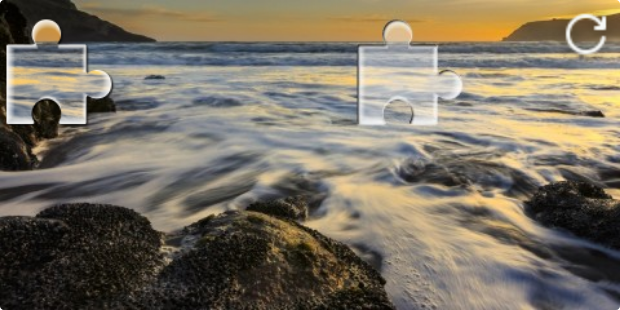target: (358, 19, 463, 126)
